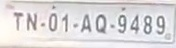character: (25, 11, 38, 31), (11, 10, 23, 31), (94, 13, 106, 34), (80, 13, 92, 33), (116, 13, 126, 34), (155, 15, 165, 35), (47, 12, 57, 31), (129, 14, 139, 33), (141, 15, 151, 33), (60, 14, 69, 33)
